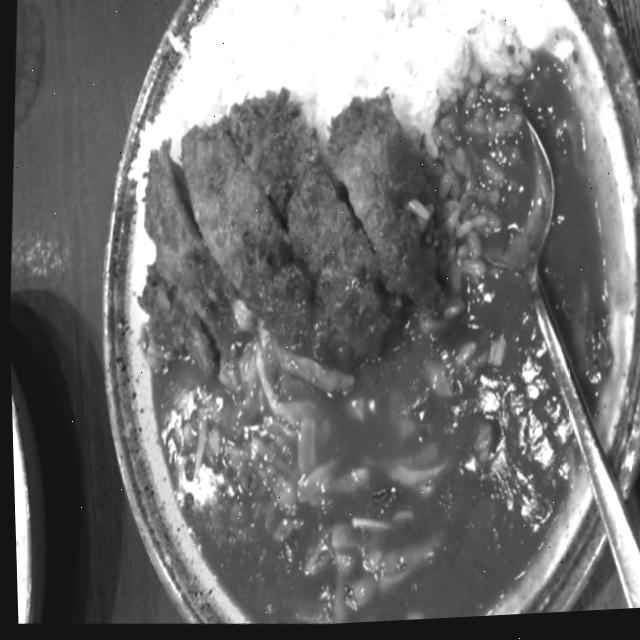牛肉菜式: (106, 73, 445, 419)
